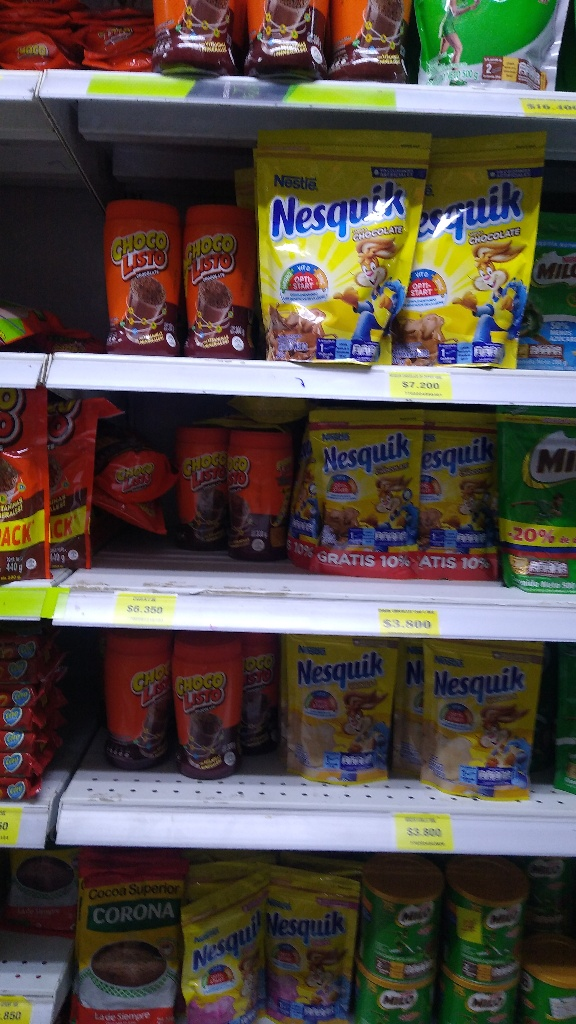COL0170103DYP44000: (0, 389, 55, 579)
COL0170103TRR30000: (100, 196, 180, 357)
COL0170203DYP50000: (497, 411, 576, 593)
COL0170203LAT40000: (359, 870, 447, 984)
COL0170205DYP20000: (514, 205, 576, 365)
COL0170305DYP20000: (190, 864, 273, 1024)
COL0170306DYP20000: (288, 637, 398, 787)
